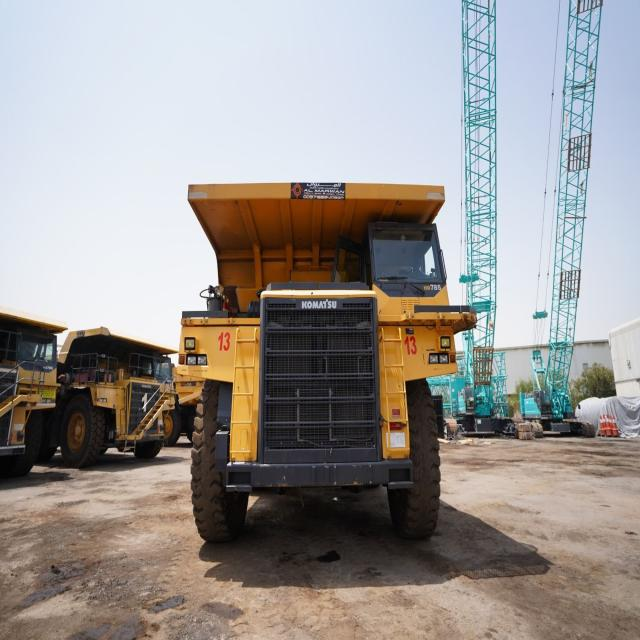dump_truck: (176, 177, 479, 546)
